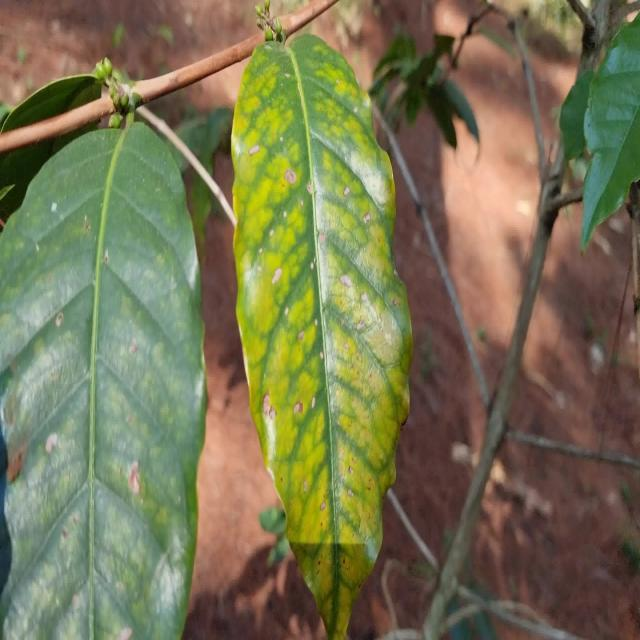leaves: (205, 27, 447, 640), (0, 124, 206, 640)
